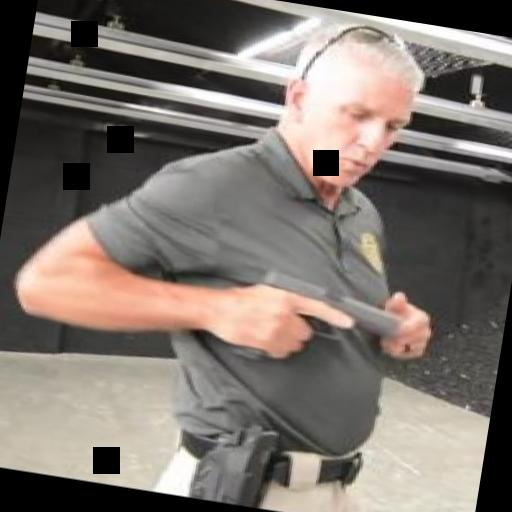Handgun: (226, 259, 412, 378)
